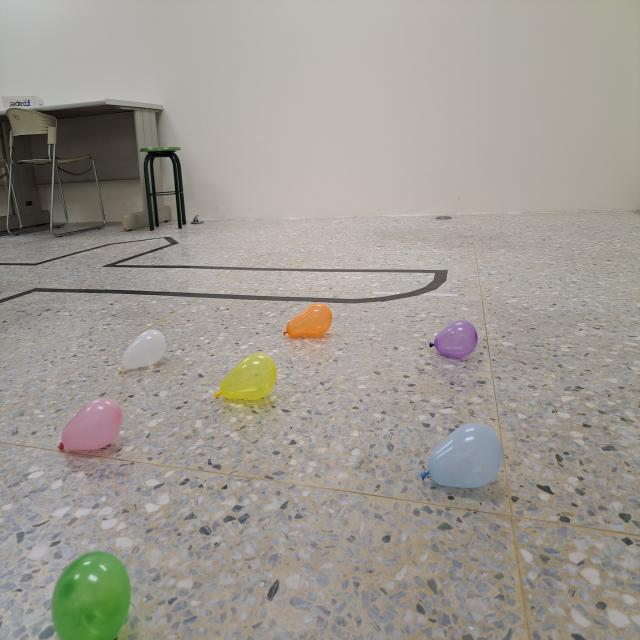other: (51, 549, 132, 640), (422, 422, 504, 488), (59, 396, 123, 454), (215, 351, 277, 402), (118, 326, 166, 374), (282, 302, 333, 340), (429, 321, 478, 358)
